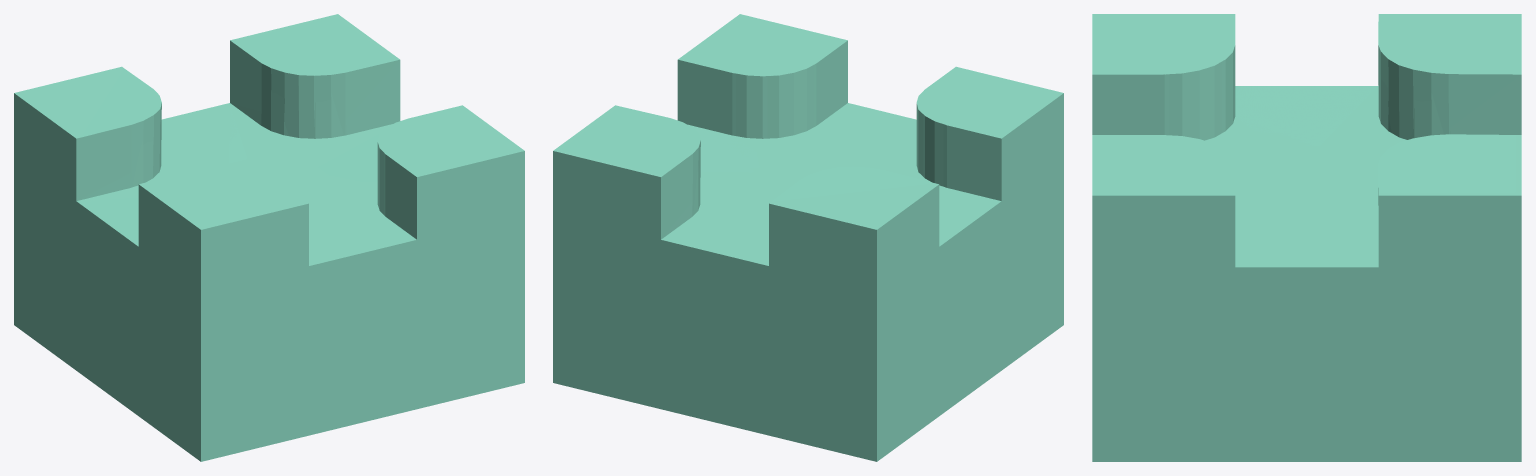
Rendered from Cross.fbx.
3 views of the same model, side by side, from view 1: azimuth 30°, elevation 25°; view 2: azimuth 150°, elevation 25°; view 3: azimuth 270°, elevation 25° (orthographic). The views are drawn at different scales.
Parts seen in each view (by area): view 1: Hatch, Cube.012; view 2: Hatch, Cube.012; view 3: Hatch, Cube.012.
Part boxes in pixels (box(x1,y1,x2,y2)): Hatch: box(14, 17, 524, 461); Cube.012: box(14, 14, 524, 290); Hatch: box(553, 41, 1063, 461); Cube.012: box(553, 14, 1063, 291); Hatch: box(1092, 17, 1521, 461); Cube.012: box(1092, 14, 1521, 267).
Bounding box in the file's own units: 400 × 275 × 400.
